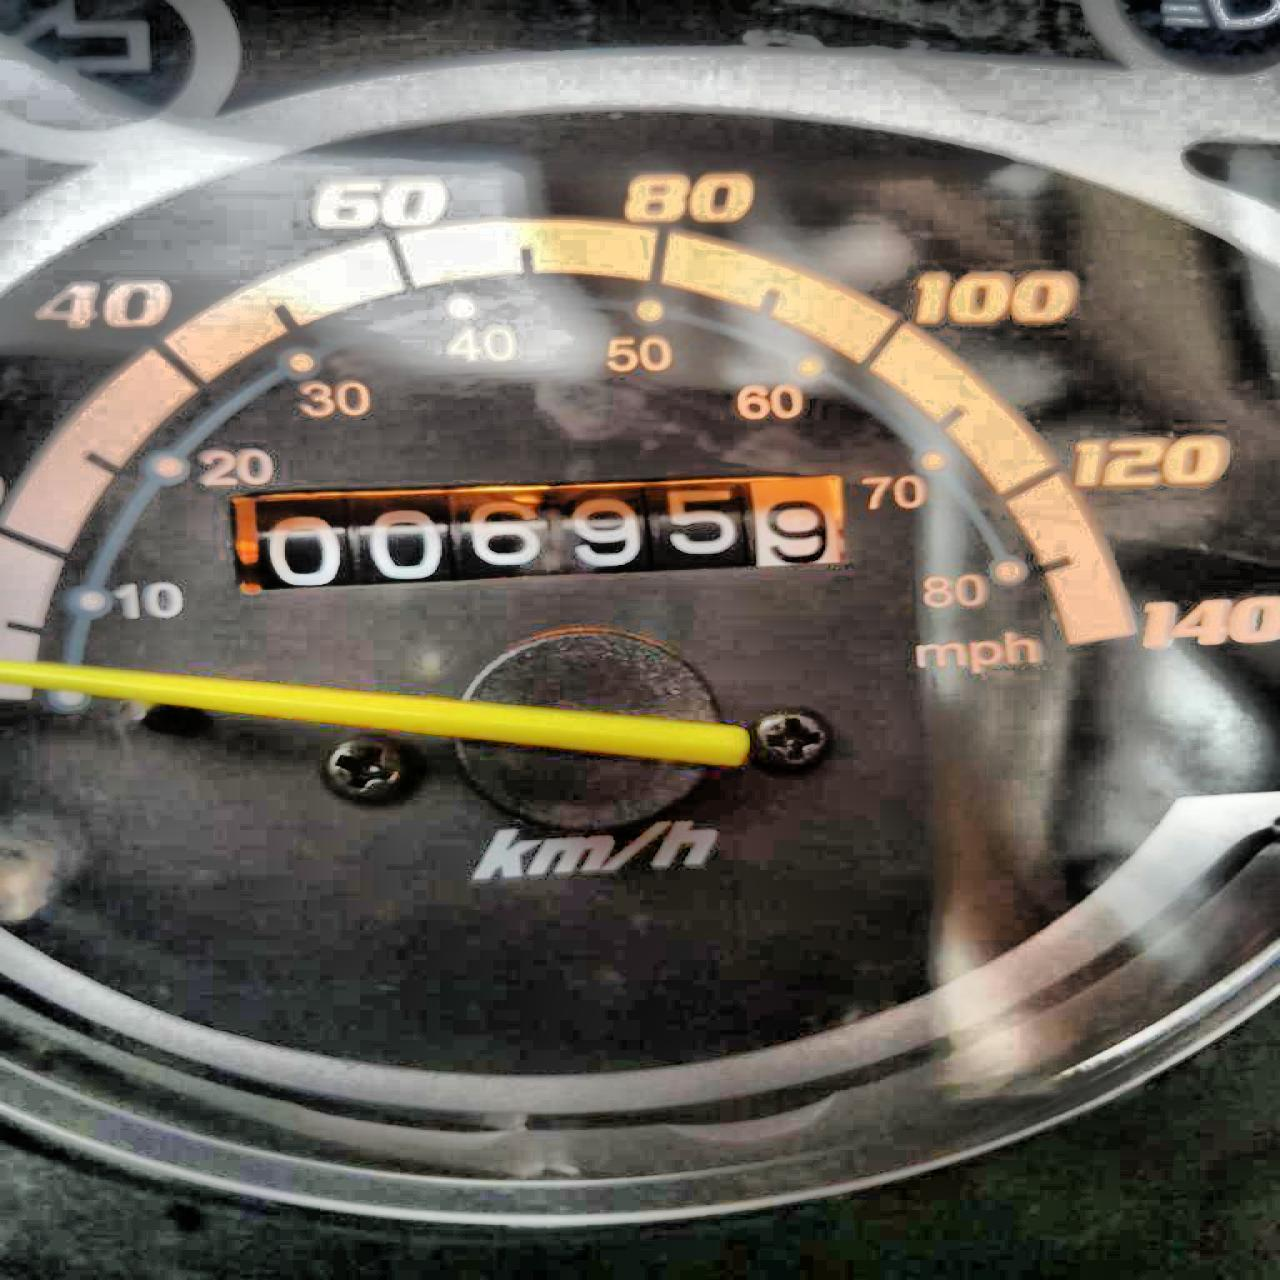0: (260, 506, 345, 586), (360, 505, 440, 584)
5: (663, 482, 738, 563)
6: (462, 492, 543, 577)
9: (565, 489, 641, 573), (765, 493, 835, 579)
odometer: (213, 472, 859, 601)
